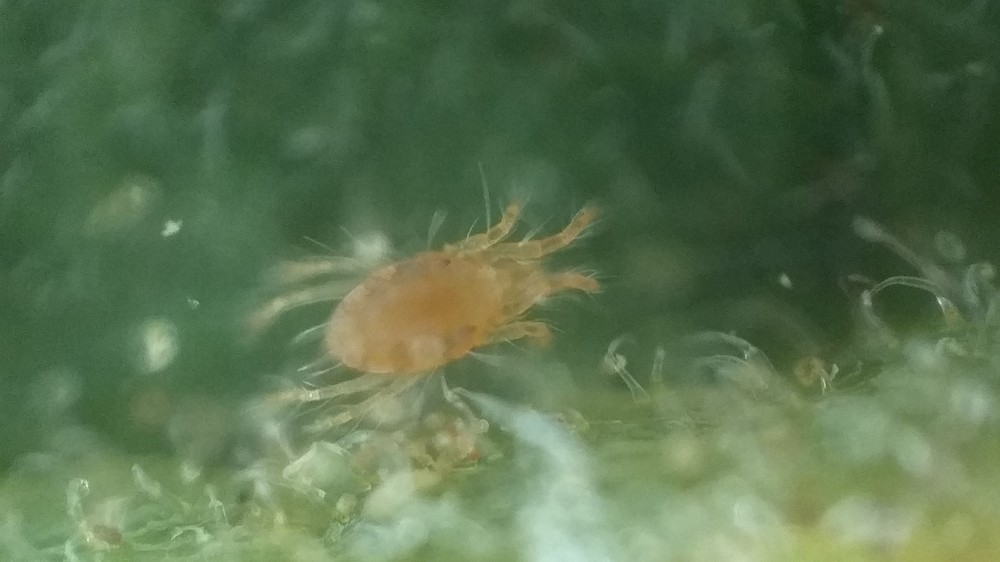Aracnido Rojo: (232, 150, 657, 459)
